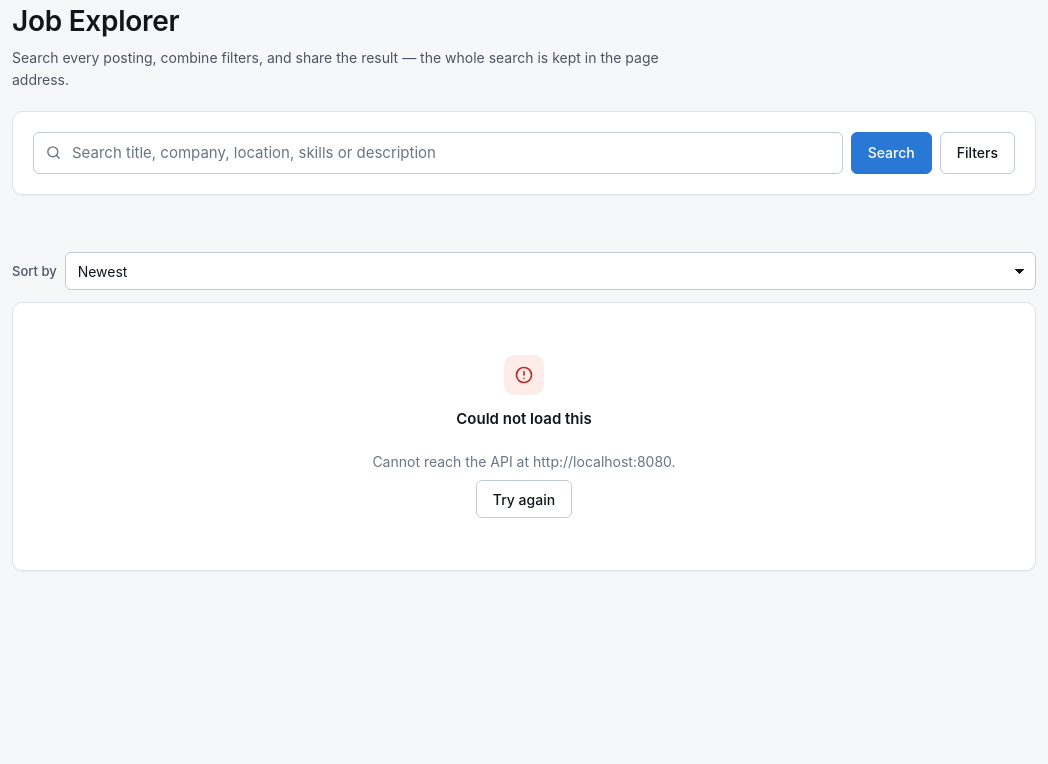
JobExplorer › shows a failed search with its message and a working retry
Expected: the message "Could not load this Cannot reach the API at http://localhost:8080. Try again" is shown, [372,356,676,518]
Click the button "Try again" at (524, 499), box [476,480,572,518]
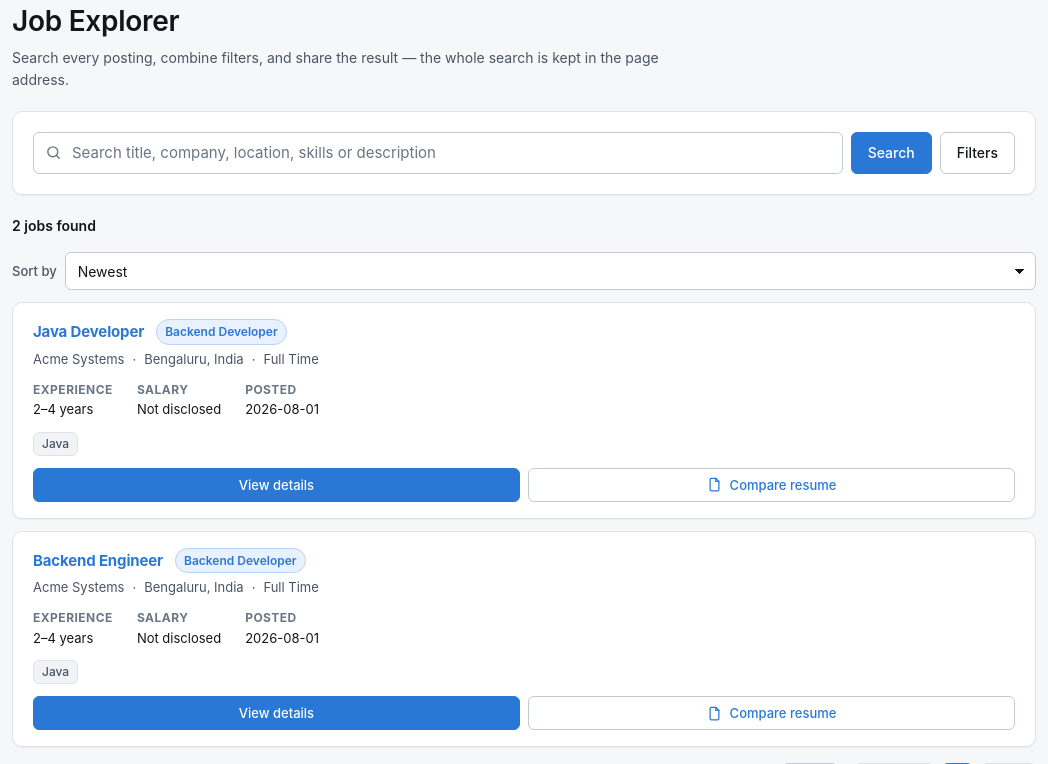
Expected: the link "Java Developer" is shown, [33,322,144,341]
